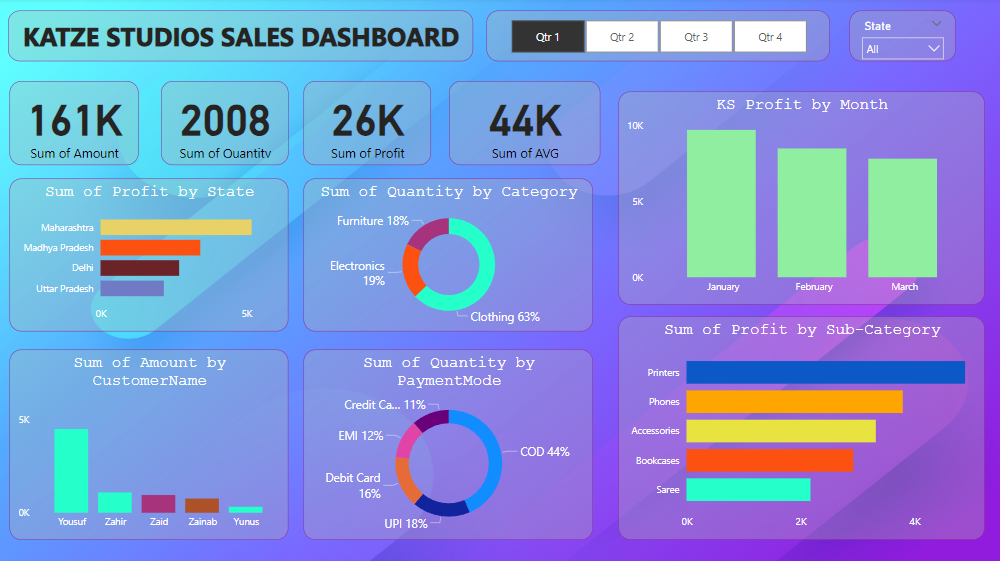

This screenshot's page, from the dashboard's own definition file:
{"tool":"powerbi","page":{"name":"Page 1","canvas":[1280,720],"ordinal":0},"visuals":[{"type":"textbox","box":[15.1,17,585.8,64.3],"z":0},{"type":"columnChart","title":"KS Profit by Month","fields":{"Category":["Orders.Order Date.Variation.Date Hierarchy.Month"],"Y":["Details.Profit"]},"box":[784.3,119.1,461.1,268.3],"z":1000},{"type":"barChart","fields":{"Category":["Details.Sub-Category"],"Y":["Details.Profit"]},"box":[784.3,402.5,461.1,281.6],"z":2000},{"type":"donutChart","fields":{"Category":["Details.Category"],"Y":["Details.Quantity"]},"box":[387.4,228.7,364.7,192.8],"z":3000},{"type":"donutChart","fields":{"Y":["Details.Quantity"],"Category":["Details.PaymentMode"]},"box":[387.4,444.1,364.7,240],"z":4000},{"type":"card","fields":{"Values":["Details.Amount"]},"box":[17,105.8,162.5,105.8],"z":5000},{"type":"card","fields":{"Values":["Details.Quantity"]},"box":[207.9,105.8,160.6,105.8],"z":6000},{"type":"card","fields":{"Values":["Details.Profit"]},"box":[387.4,105.8,160.6,105.8],"z":7000},{"type":"card","fields":{"Values":["Details.AVG"]},"box":[570.7,105.8,190.9,105.8],"z":8000},{"type":"barChart","fields":{"Y":["Details.Profit"],"Category":["Orders.State"]},"box":[17,228.7,351.5,192.8],"z":9000},{"type":"columnChart","fields":{"Category":["Orders.CustomerName"],"Y":["Details.Amount"]},"box":[17,444.1,351.5,240],"z":10000},{"type":"slicer","fields":{"Values":["Orders.Order Date.Variation.Date Hierarchy.Quarter"]},"box":[618,17,432.8,64.3],"z":11000},{"type":"slicer","fields":{"Values":["Orders.State"]},"box":[1075.3,17,134.2,64.3],"z":11001}]}

Visuals, with their boxes in screenshot pixels (x1, y1, x2, y2), scaled from the page's 1280x720 canvas onto the 1000x561 screenshot:
textbox: [12, 13, 469, 63]
"KS Profit by Month" columnChart: [613, 93, 973, 302]
barChart - Details.Sub-Category x Details.Profit: [613, 314, 973, 533]
donutChart - Details.Category x Details.Quantity: [303, 178, 588, 328]
donutChart - Details.Quantity x Details.PaymentMode: [303, 346, 588, 533]
card - Details.Amount: [13, 82, 140, 165]
card - Details.Quantity: [162, 82, 288, 165]
card - Details.Profit: [303, 82, 428, 165]
card - Details.AVG: [446, 82, 595, 165]
barChart - Details.Profit x Orders.State: [13, 178, 288, 328]
columnChart - Orders.CustomerName x Details.Amount: [13, 346, 288, 533]
slicer - Orders.Order Date.Variation.Date Hierarchy.Quarter: [483, 13, 821, 63]
slicer - Orders.State: [840, 13, 945, 63]
